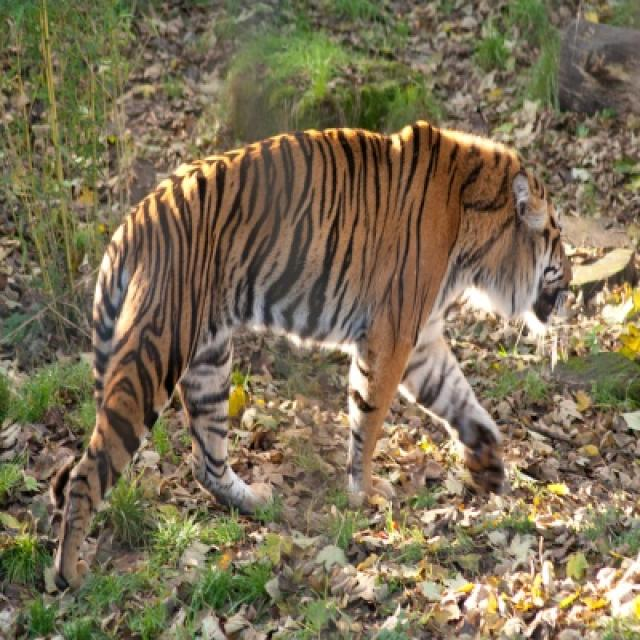Tiger: (55, 117, 577, 572)
